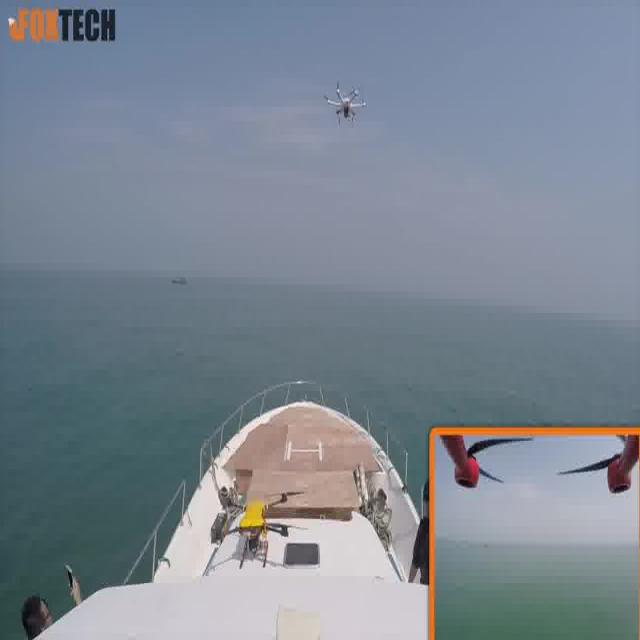drone: (326, 83, 366, 127)
